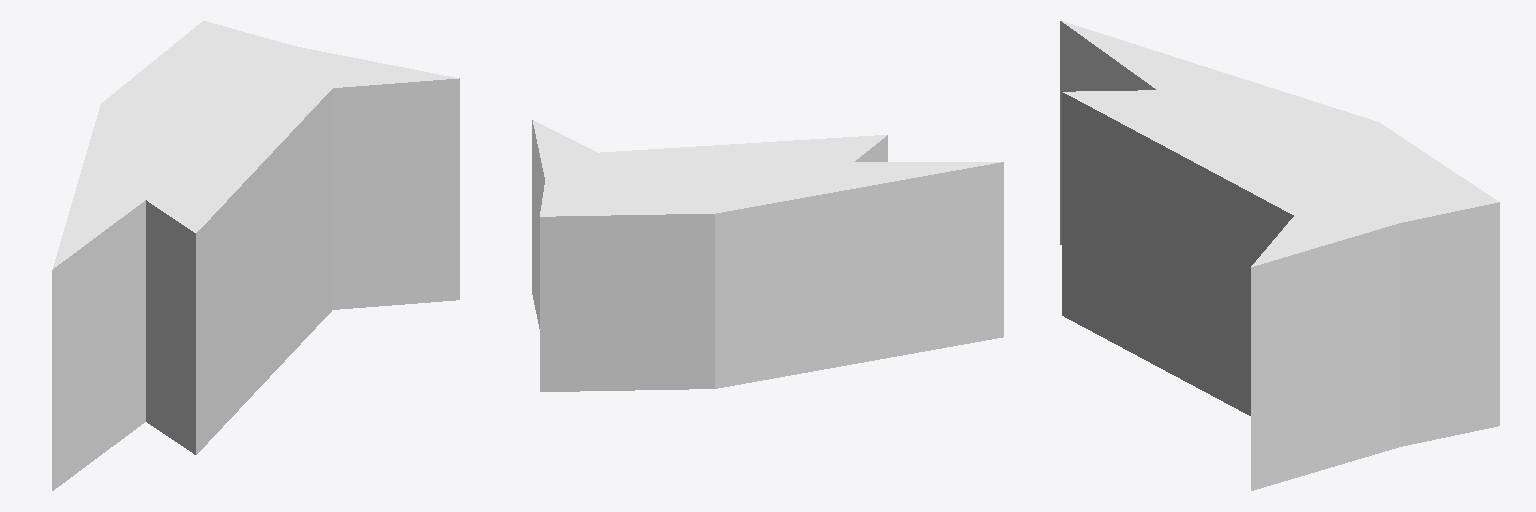
The robot description file, URDF, robot "0":
<?xml version="1.0" ?>
<robot name="0">
  <link concave="yes" name="baseLink">
    <contact>
    	<friction_anchor/>
    	   <lateral_friction value="1.0"/>
    </contact>
    <inertial>
      <origin rpy="0 0 0" xyz="0 0 0"/>
       <!-- mass controls penetration -->
       <mass value=".1"/>
       <inertia ixx="1e-4" ixy="0" ixz="0" iyy="1e-4" iyz="0" izz="1e-4"/>
    </inertial>
    <visual>
      <origin rpy="0 0 0" xyz="0 0 0"/>
      <geometry>
        <mesh filename="package://object_datasets/ycb/meshes/8.obj"/>
      </geometry>
       <material name="white">
        <color rgba="1 1 1 1"/>
      </material>
    </visual>
    <collision>
      <origin rpy="0 0 0" xyz="0 0 0"/>
      <geometry>
        <mesh filename="package://object_datasets/ycb/meshes/8.obj"/>
      </geometry>
    </collision>
  </link>
</robot>

--- What the picture shows (computed from the rendered views, not written in the file) ---
Views: 3 orthographic renders of the robot side by side, from view 1: azimuth 30°, elevation 25°; view 2: azimuth 150°, elevation 25°; view 3: azimuth 270°, elevation 25°.
Model 0 with 1 links and 0 joints (none), rooted at baseLink, posed every joint at zero.
Visible links, largest first — view 1: baseLink; view 2: baseLink; view 3: baseLink.
Link boxes in pixels (bbox=[...]): baseLink: bbox=[52, 21, 459, 490]; baseLink: bbox=[532, 120, 1003, 391]; baseLink: bbox=[1060, 21, 1499, 490].
Size in the robot's own frame: 0.1774 by 0.1334 by 0.075 metres.
1 mesh visuals loaded from 1 distinct referenced files (1 OBJ).
